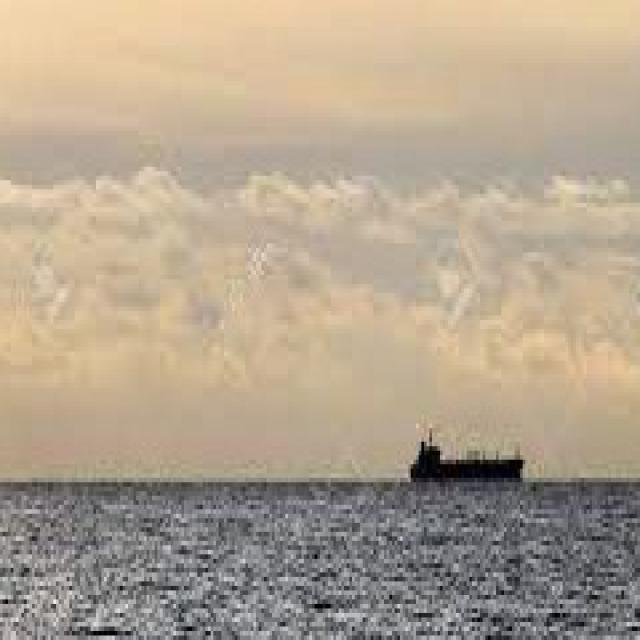cargoship: (402, 418, 538, 477)
